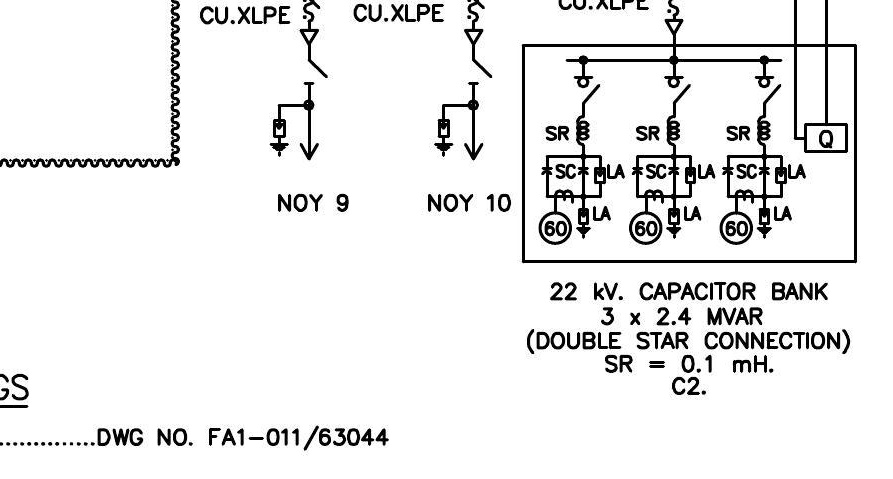22_cap_bank: (521, 43, 858, 264)
22_ds_la_out: (434, 59, 494, 162), (269, 60, 329, 162)
Q: (803, 122, 849, 154)
terminator_single: (663, 18, 684, 36), (464, 28, 484, 46), (299, 29, 319, 46)
